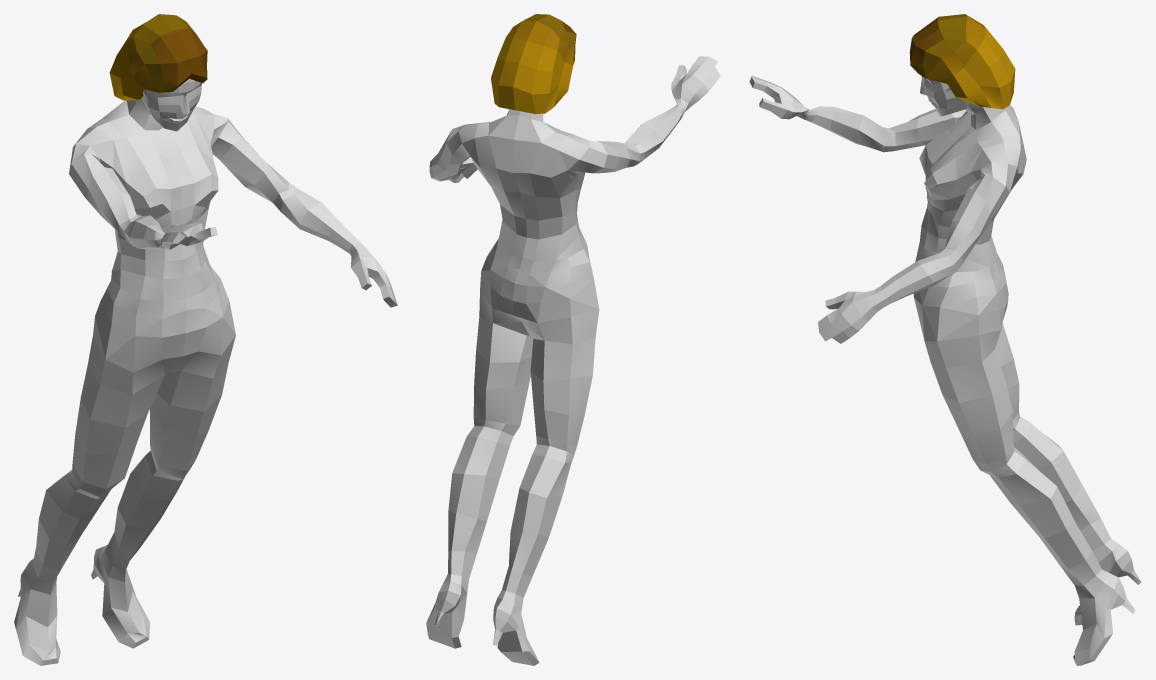
File: MotherWait.fbx
3 renders of one model, left to right at view 1: azimuth 30°, elevation 25°; view 2: azimuth 150°, elevation 25°; view 3: azimuth 270°, elevation 25°, orthographic. The views are drawn at different scales.
Visible parts, largest first — view 1: lpFemale_casual_G.001; view 2: lpFemale_casual_G.001; view 3: lpFemale_casual_G.001.
Boxes of the visible parts, x1,y1,x2,y2 form: lpFemale_casual_G.001: (14, 14, 397, 665); lpFemale_casual_G.001: (426, 14, 720, 665); lpFemale_casual_G.001: (749, 14, 1141, 665).
Bounding box in the file's own units: 0.6804 × 1.68 × 0.948.
Materials: 2 (1 with a texture image).
